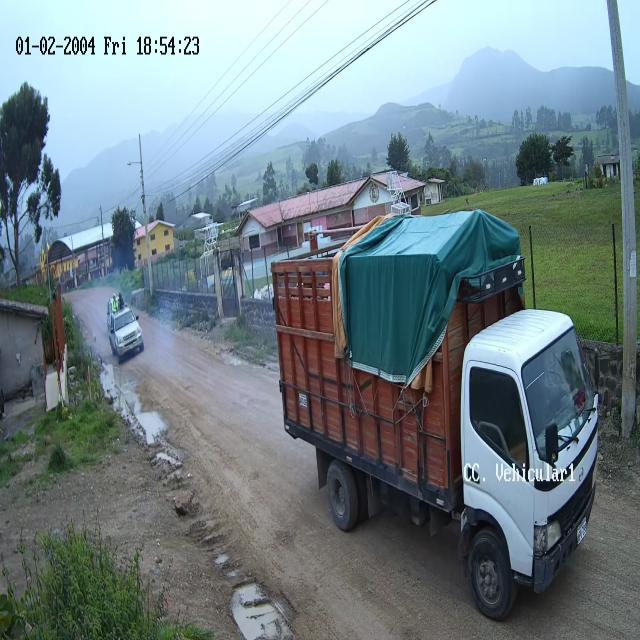TRUCK: (272, 211, 602, 618)
